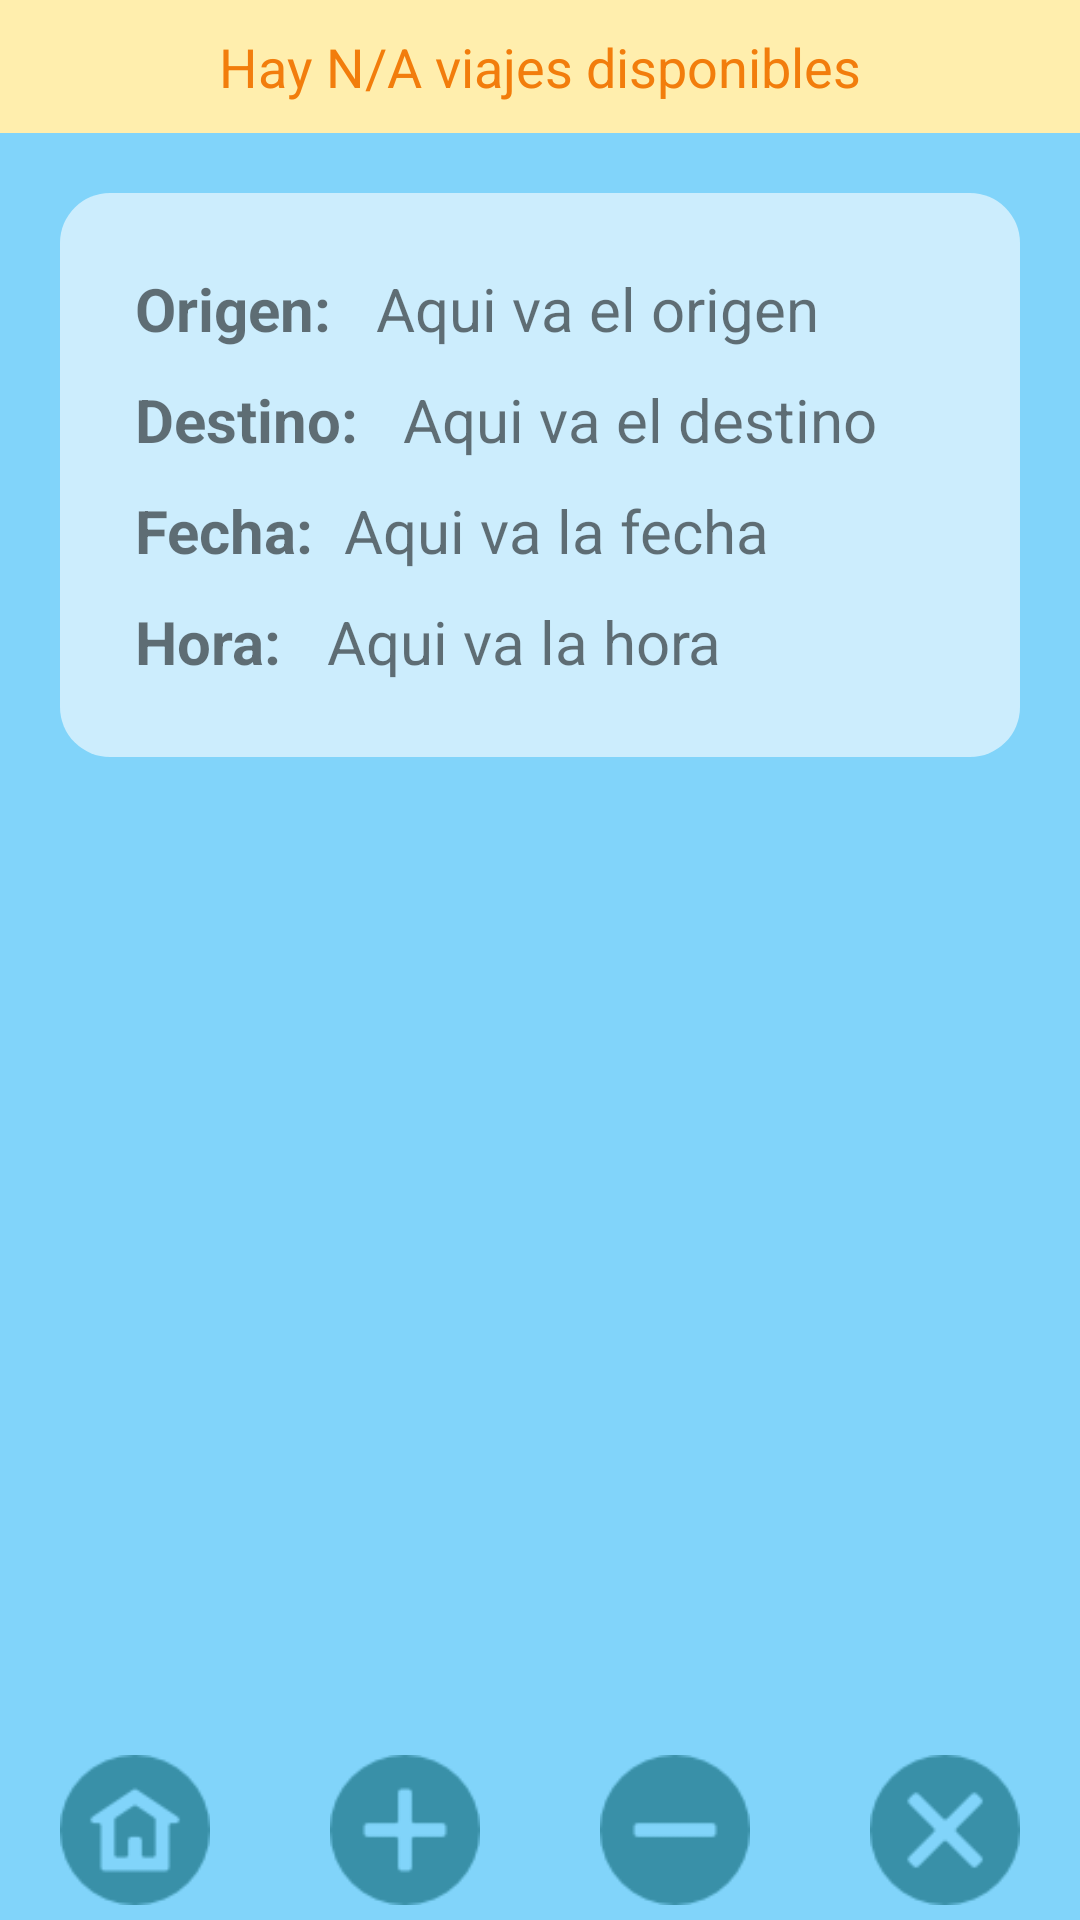

Where icons sit on this 1080px×1920px app screen, as detection(x1, y1, x2, y2):
add: detection(330, 1755, 480, 1905)
exit: detection(870, 1755, 1020, 1905)
home: detection(60, 1755, 210, 1905)
remove: detection(600, 1755, 750, 1905)
